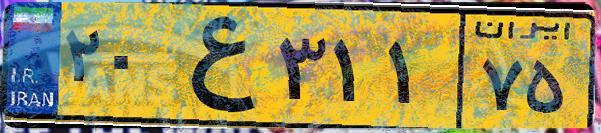0: (110, 28, 158, 98)
1: (385, 28, 445, 110), (330, 28, 385, 110)
2: (57, 26, 110, 100)
3: (270, 28, 330, 110)
5: (525, 38, 570, 115)
7: (475, 38, 525, 113)
ع: (158, 12, 270, 120)
